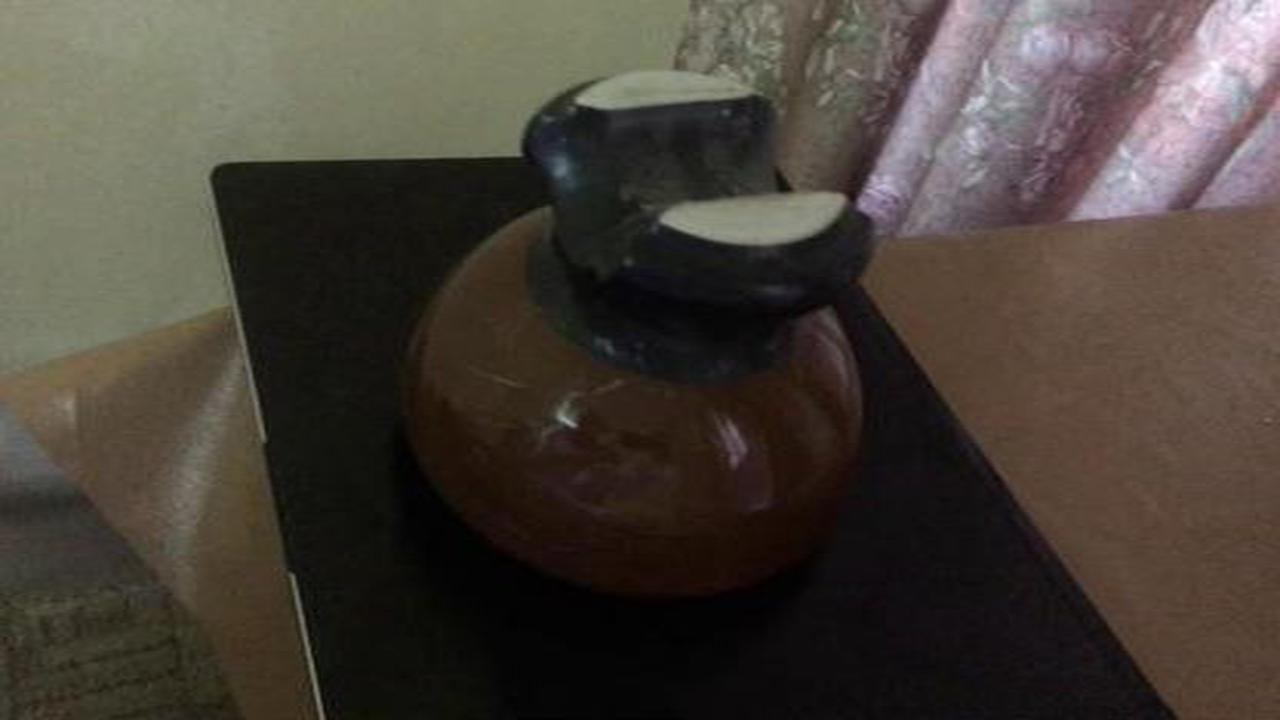insulator_pin: (376, 59, 936, 634)
